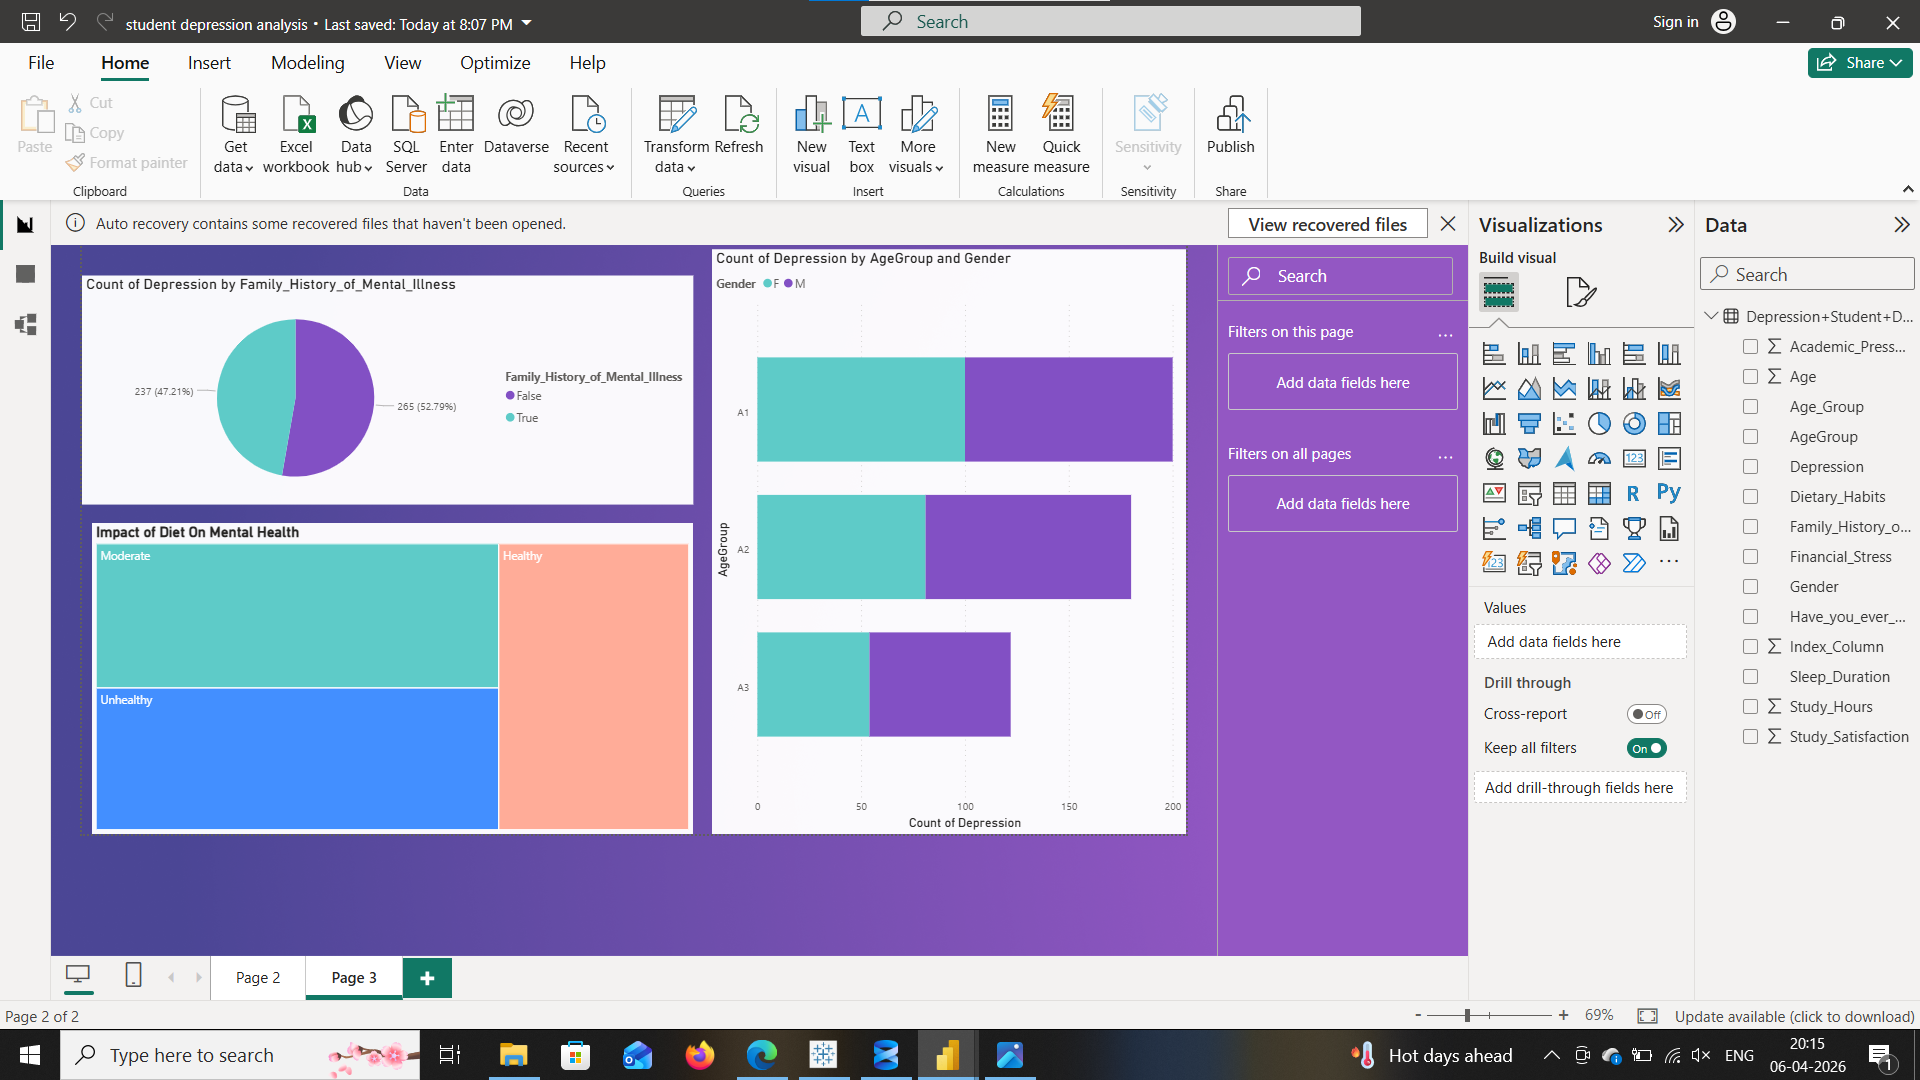

The page's visual inventory and layout, read from the dashboard file:
{"tool":"powerbi","page":{"name":"Page 3","canvas":[1280,720],"ordinal":1},"visuals":[{"type":"barChart","fields":{"Y":["CountNonNull(Depression+Student+Dataset.Depression)"],"Category":["Depression+Student+Dataset.AgeGroup"],"Series":["Depression+Student+Dataset.Gender"]},"box":[730.4,42,549.3,678.3],"z":0},{"type":"treemap","title":"Impact of Diet On Mental Health","fields":{"Group":["Depression+Student+Dataset.Dietary_Habits"],"Values":["CountNonNull(Depression+Student+Dataset.Depression)"]},"box":[11.6,359.4,697.1,360.9],"z":1},{"type":"pieChart","fields":{"Category":["Depression+Student+Dataset.Family_History_of_Mental_Illness"],"Y":["CountNonNull(Depression+Student+Dataset.Depression)"]},"box":[0,72.5,708.7,265.2],"z":2}]}

Visuals, with their boxes on the page's 1280x720 design canvas (x1, y1, x2, y2). These are canvas units, not pixel positions in the 1920x1080 screenshot, which may show the page scaled, cropped or inside an application window:
barChart - CountNonNull(Depression+Student+Dataset.Depression) x Depression+Student+Dataset.AgeGroup: [730, 42, 1280, 720]
"Impact of Diet On Mental Health" treemap: [12, 359, 709, 720]
pieChart - Depression+Student+Dataset.Family_History_of_Mental_Illness x CountNonNull(Depression+Student+Dataset.Depression): [0, 72, 709, 338]
